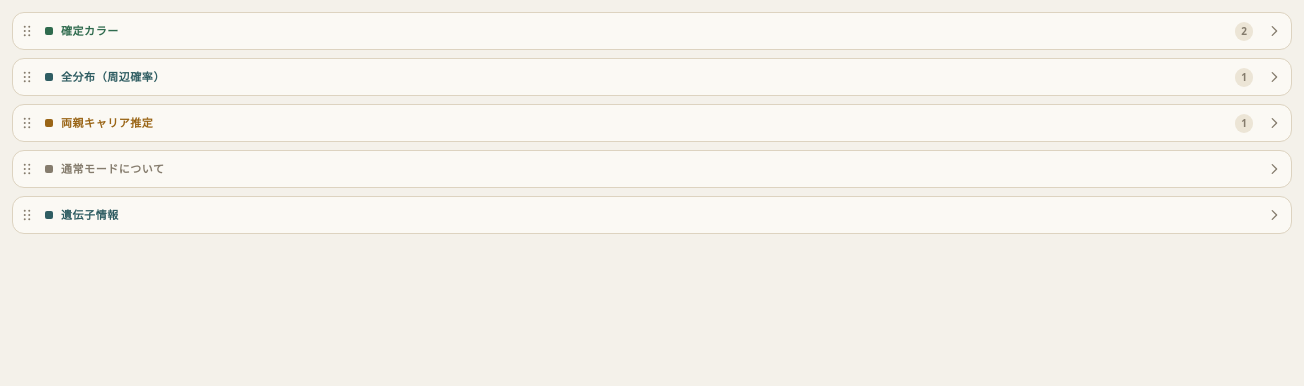
Scenario: ResultView conditional colors › normal モードで条件付きカラーがあるとき、アコーディオンを開くと中身が一覧でき、畳める
Expected: the text "この色が出たら両親が D/d 保因と確定します" is not shown
// 開くと中身が読める。
Click the button "両親キャリア推定 1" at (107, 122), box [45,106,1291,140]
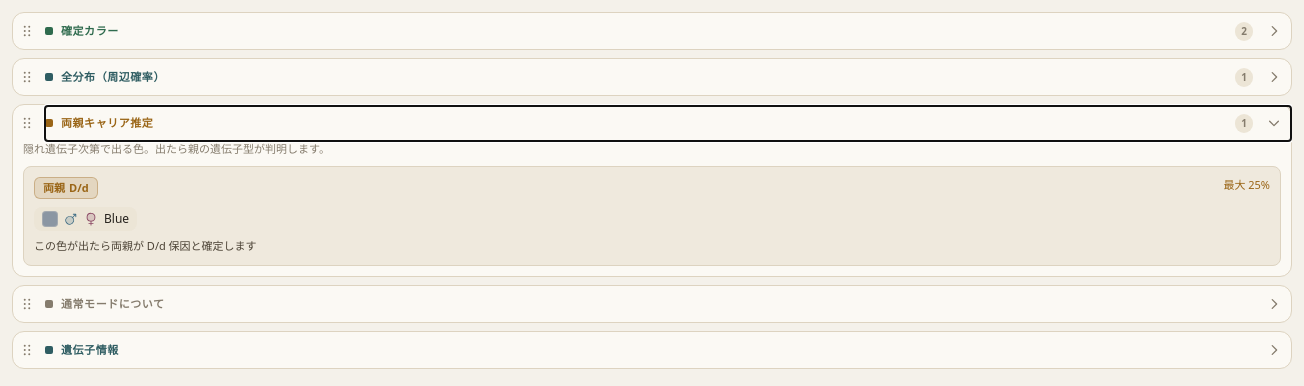
Expected: the text "この色が出たら両親が D/d 保因と確定します" is shown, [34,238,257,253]
Expected: the text "Blue" is shown, [104,211,129,227]
Expected: the text "最大 25%" is shown, [1223,176,1270,193]
//  任意で畳める。
Click the button "両親キャリア推定 1" at (107, 122), box [45,106,1291,140]
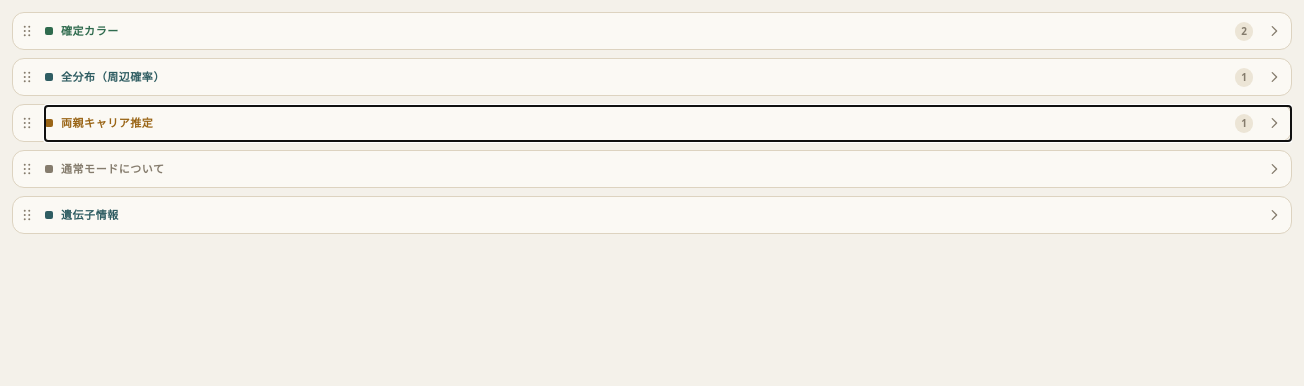
Expected: the text "この色が出たら両親が D/d 保因と確定します" is gone
